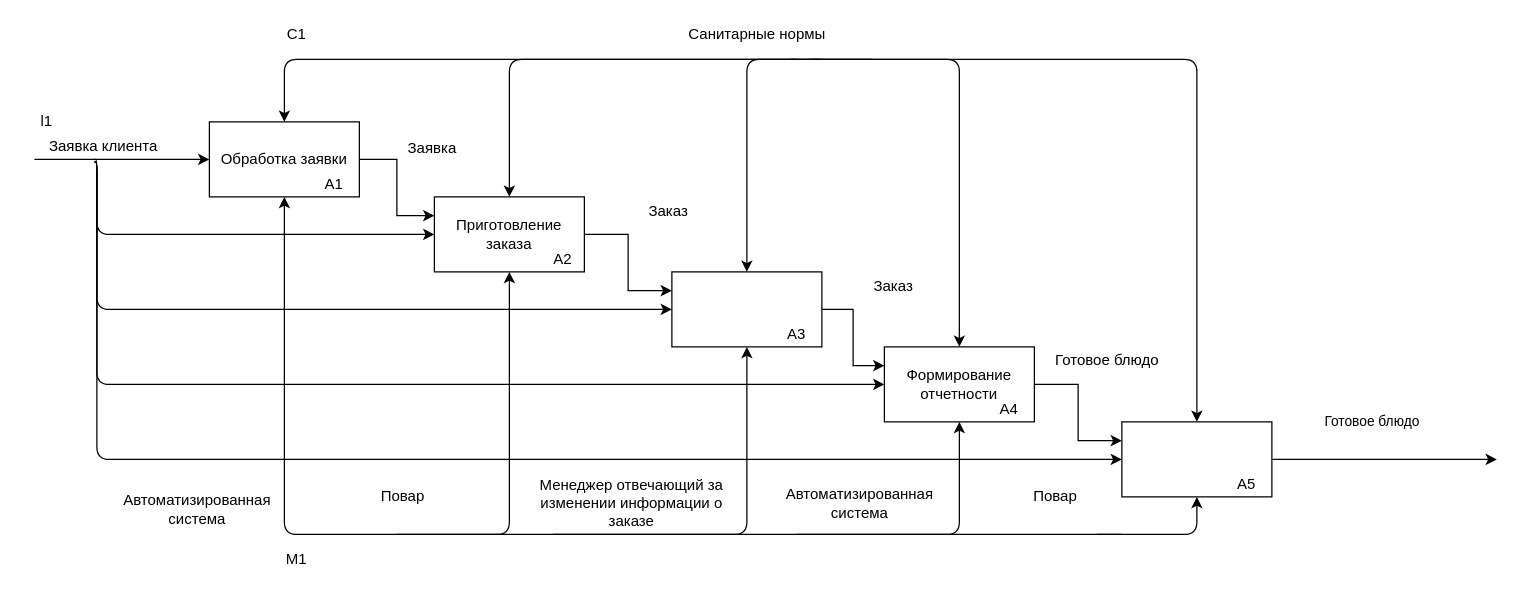
Image size: 1529x593. Some labels were removed from this diagram. Here are the shapes that lost their labels. From the top down, the box of each, then its label:
(671, 271, 822, 347): Изменение информации по заказу
(1121, 421, 1272, 497): Передача заказа
